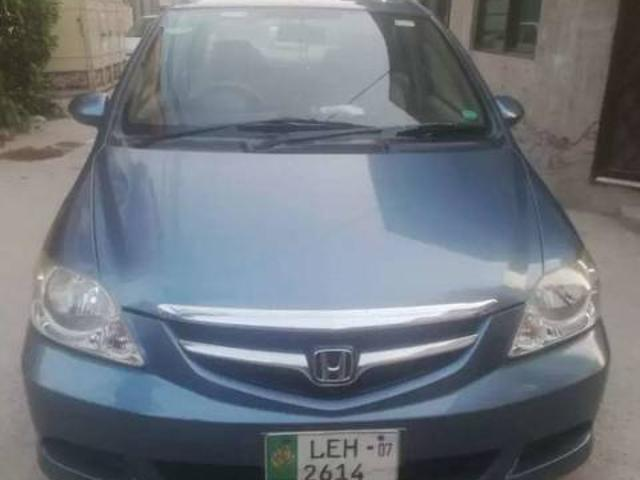plate: (258, 426, 410, 480)
